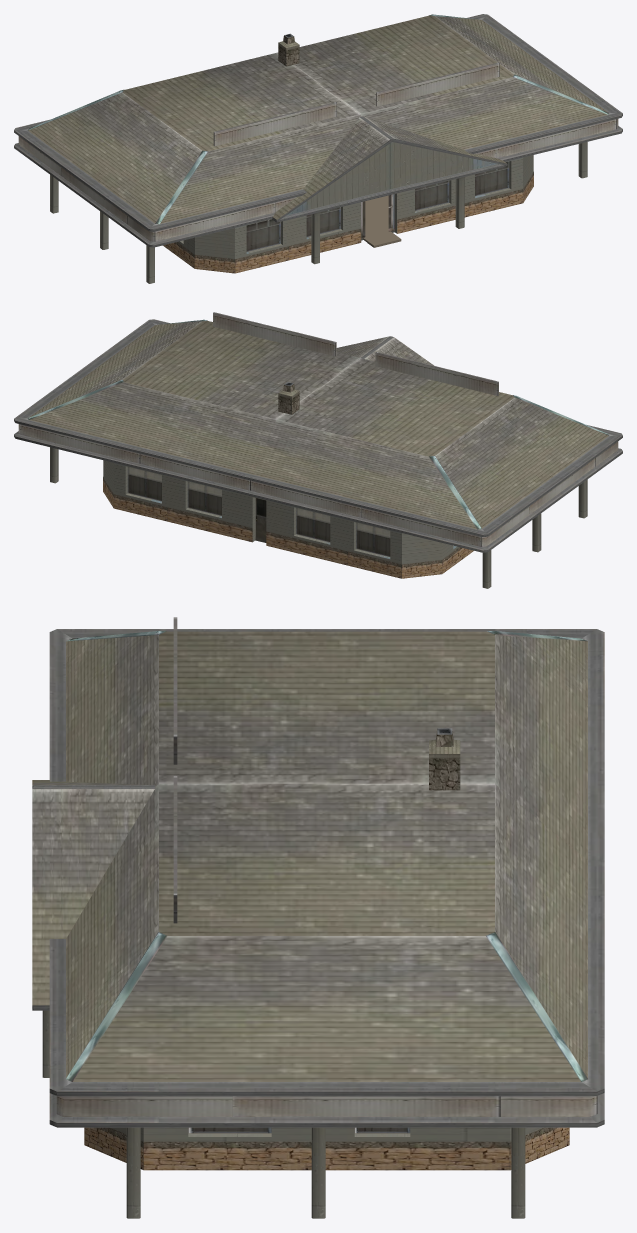
File: rural-wood-4.access-v1.lod0.glb
The picture shows the model from 3 angles, top to bottom: view 1: azimuth 30°, elevation 25°; view 2: azimuth 150°, elevation 25°; view 3: azimuth 270°, elevation 25°; orthographic projection. The views are drawn at different scales.
Visible parts, largest first — view 1: Rural_WoodenBuilding_4_Rural_Housetrim_1_0, Rural_WoodenBuilding_4_Rural_Facade_FLR_2_0, Rural_WoodenBuilding_4_Rural_Walltrim_1_0, Walkable floors and stairs; view 2: Rural_WoodenBuilding_4_Rural_Housetrim_1_0, Rural_WoodenBuilding_4_Rural_Facade_FLR_2_0, Rural_WoodenBuilding_4_Rural_Walltrim_1_0; view 3: Rural_WoodenBuilding_4_Rural_Housetrim_1_0, Rural_WoodenBuilding_4_Rural_Facade_FLR_2_0, Rural_WoodenBuilding_4_Rural_Walltrim_1_0.
Boxes of the visible parts, <box> form: Rural_WoodenBuilding_4_Rural_Housetrim_1_0: <box>14,14,622,273</box>; Rural_WoodenBuilding_4_Rural_Facade_FLR_2_0: <box>18,14,618,251</box>; Rural_WoodenBuilding_4_Rural_Walltrim_1_0: <box>50,142,587,283</box>; Walkable floors and stairs: <box>363,195,401,247</box>; Rural_WoodenBuilding_4_Rural_Housetrim_1_0: <box>14,319,622,578</box>; Rural_WoodenBuilding_4_Rural_Facade_FLR_2_0: <box>18,312,618,556</box>; Rural_WoodenBuilding_4_Rural_Walltrim_1_0: <box>50,447,587,588</box>; Rural_WoodenBuilding_4_Rural_Housetrim_1_0: <box>32,629,604,1170</box>; Rural_WoodenBuilding_4_Rural_Facade_FLR_2_0: <box>56,617,597,1133</box>; Rural_WoodenBuilding_4_Rural_Walltrim_1_0: <box>42,1010,542,1218</box>.
Size of the model in its own units: 27.73 by 7.64 by 14.49.
Materials: 4 (3 with a texture image).
